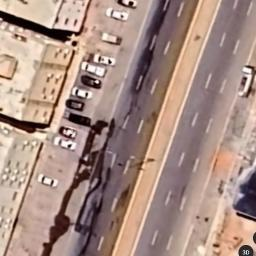pickup: (79, 58, 108, 78)
sedan: (36, 172, 62, 190), (78, 72, 103, 90), (90, 51, 116, 68), (105, 6, 132, 22), (52, 136, 76, 152), (69, 86, 95, 100), (115, 0, 139, 9)
truck: (236, 64, 256, 100)
unknown: (63, 97, 87, 112), (57, 125, 78, 140)
